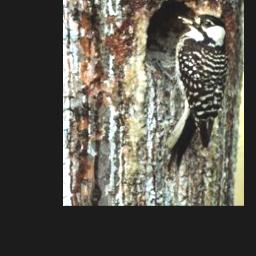Woodpecker: (163, 11, 227, 170)
